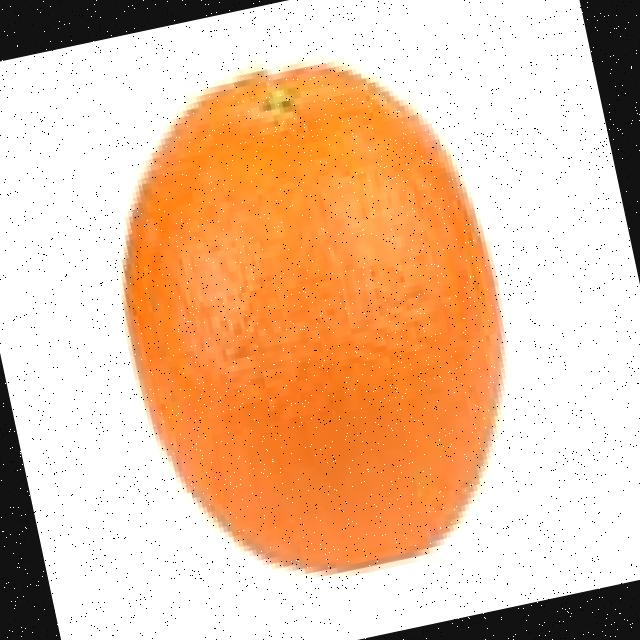Ripe: (76, 23, 554, 610)
